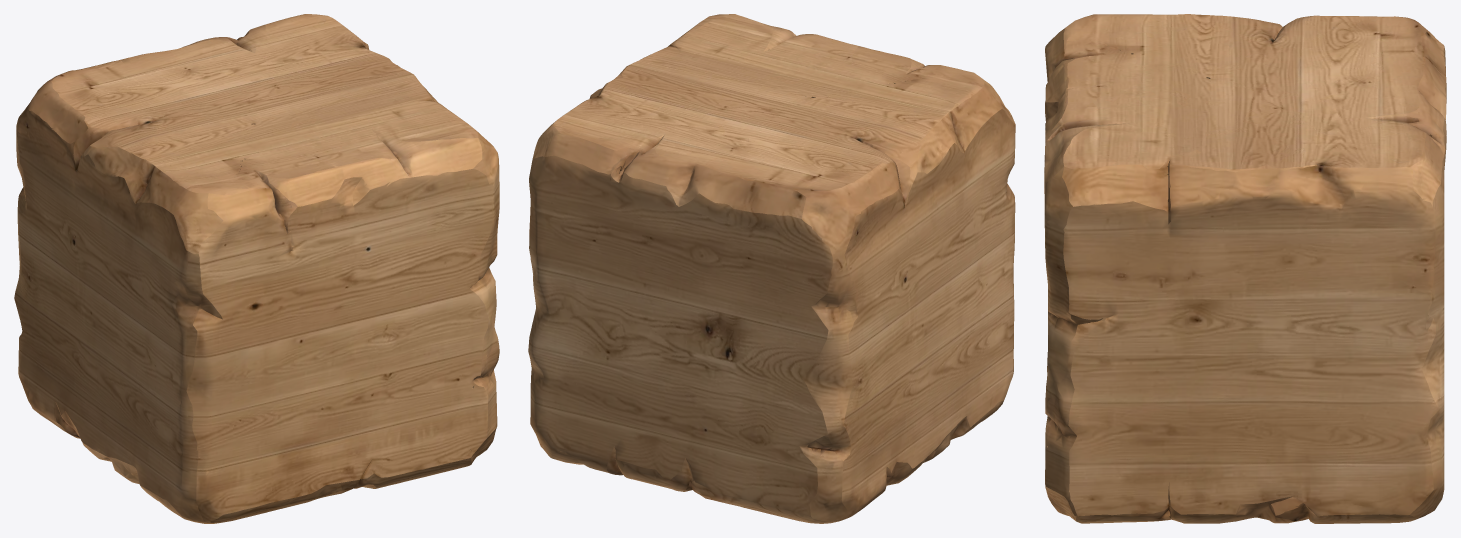
File: obj_block_wood.glb
The picture shows the model from 3 angles, left to right: view 1: azimuth 30°, elevation 25°; view 2: azimuth 150°, elevation 25°; view 3: azimuth 270°, elevation 25°; orthographic projection. The views are drawn at different scales.
Parts seen in each view (by area): view 1: geometry_0; view 2: geometry_0; view 3: geometry_0.
Part boxes in pixels (x1=…): geometry_0: x1=14, y1=14, x2=499, y2=523; geometry_0: x1=528, y1=14, x2=1015, y2=523; geometry_0: x1=1044, y1=14, x2=1446, y2=523.
Size of the model in its own units: 0.45 by 0.45 by 0.45.
Materials: 1 (1 with a texture image).
